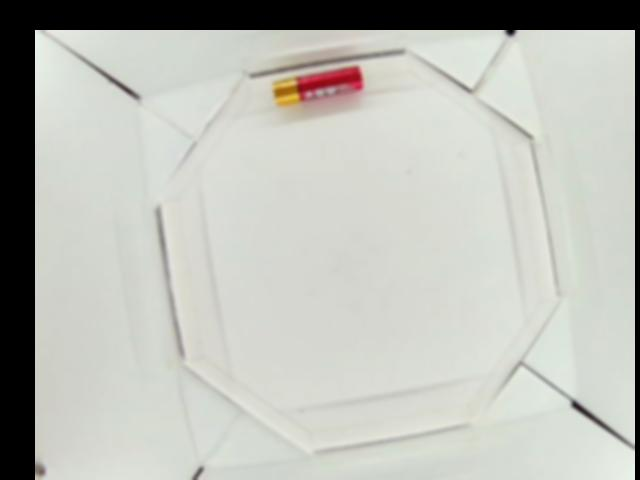Battery: (271, 65, 363, 100)
